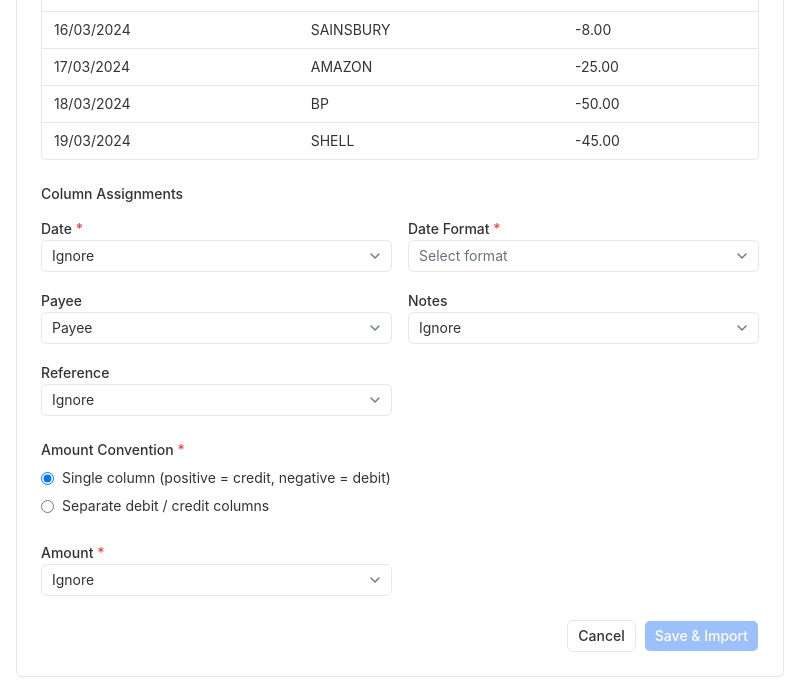
Test case: CsvColumnMapperScreen — amount convention toggle › shows debit and credit pickers when split convention is selected
(page scrolled)
Step 1. Click the radio button with test id "amount-convention-split" → x=48, y=506, box 41,500 -> 54,512
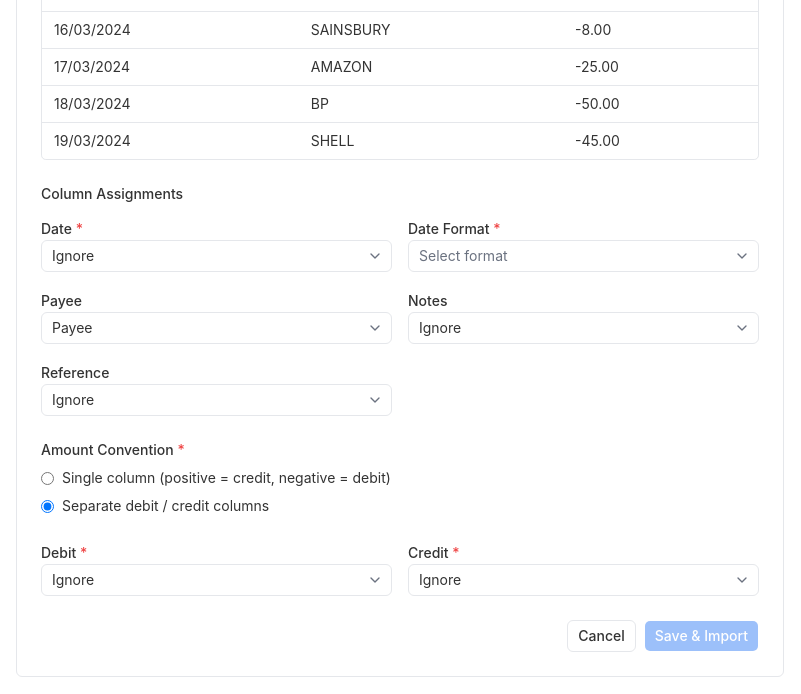
Check: the dropdown with test id "debit-col-select" is shown, box 41,564 -> 392,596
Check: the dropdown with test id "credit-col-select" is shown, box 408,564 -> 759,596
